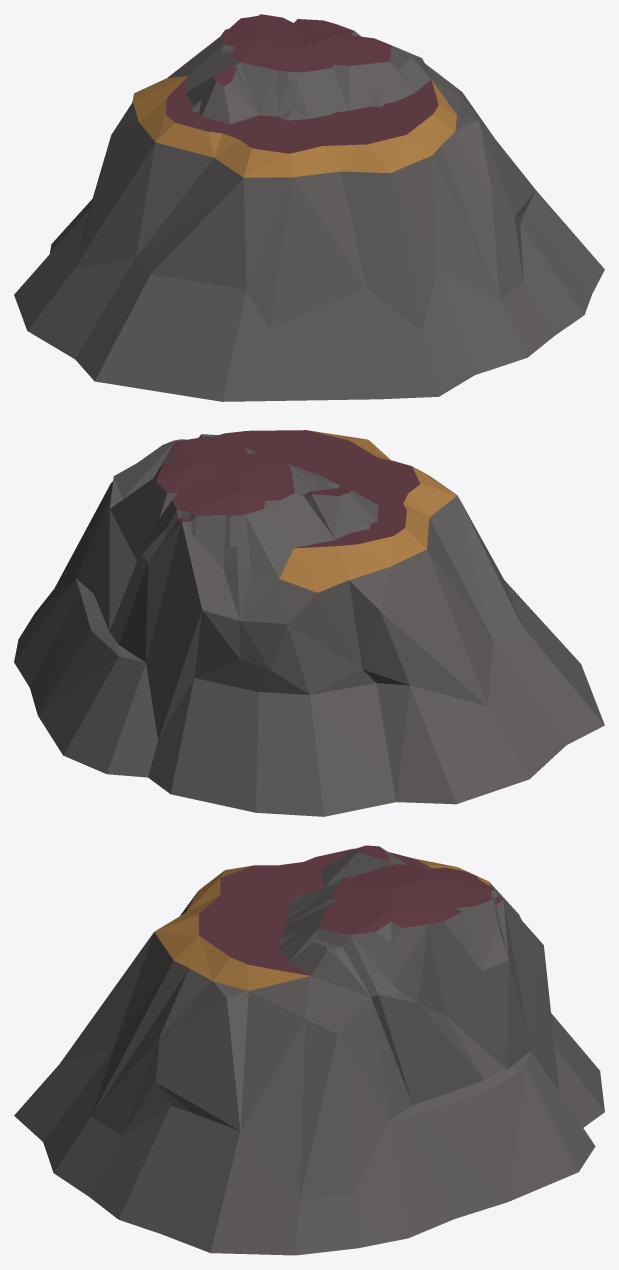
File: terrains-island-tiny.glb
3 renders of one model, top to bottom at view 1: azimuth 30°, elevation 25°; view 2: azimuth 150°, elevation 25°; view 3: azimuth 270°, elevation 25°, orthographic. The views are drawn at different scales.
Parts seen in each view (by area): view 1: island-tiny; view 2: island-tiny; view 3: island-tiny.
Boxes of the visible parts, bbox=[...] form: island-tiny: bbox=[14, 14, 604, 401]; island-tiny: bbox=[14, 430, 604, 816]; island-tiny: bbox=[14, 845, 604, 1255].
Bounding box in the file's own units: 99.94 × 41.6 × 92.27.
